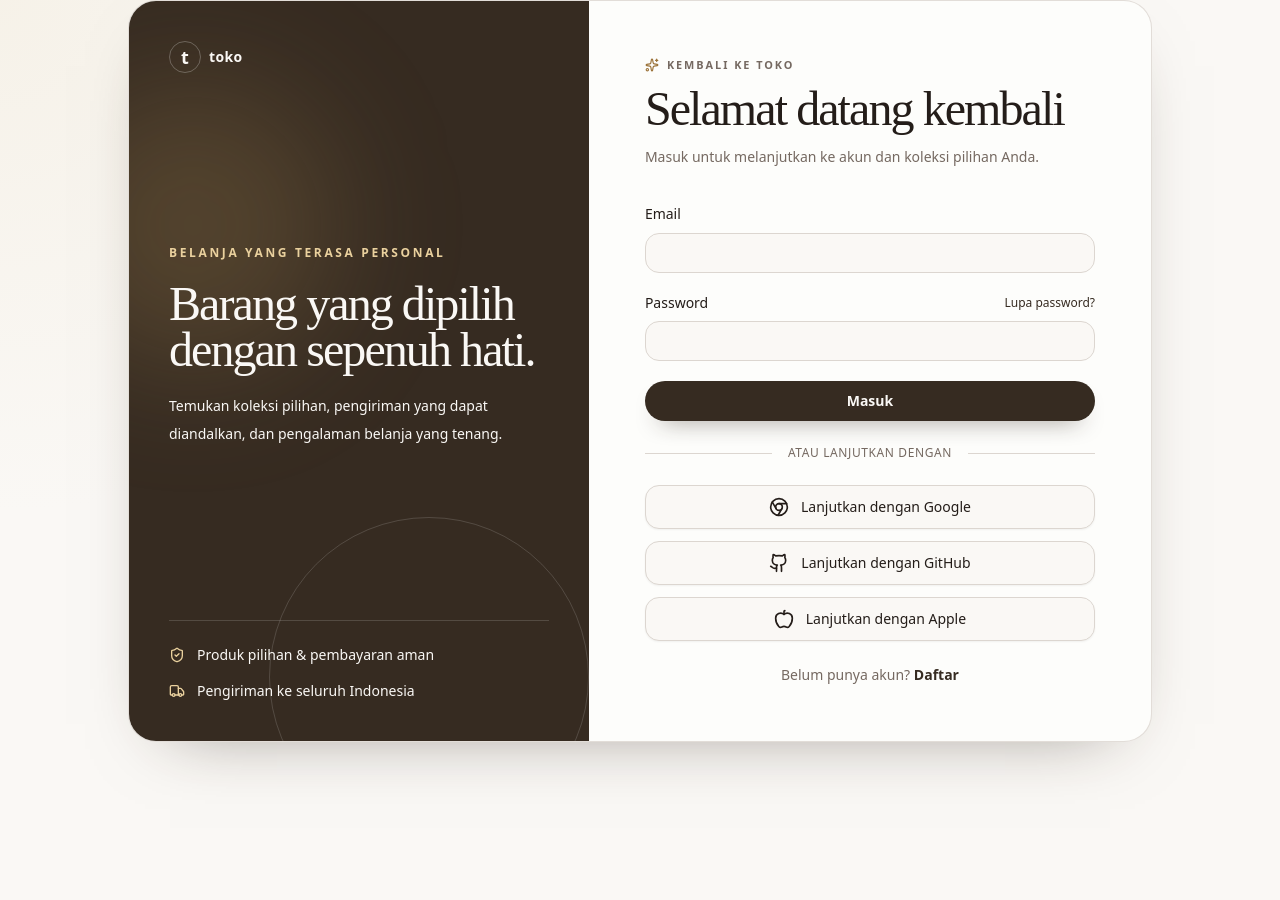
Test: LoginPage › shows loading state during submission
Expected: the heading "Selamat datang kembali" is shown, [645,85,1095,133]
Type "test@example.com" into the field labelled "Email" at (870, 253), box [645,233,1095,273]
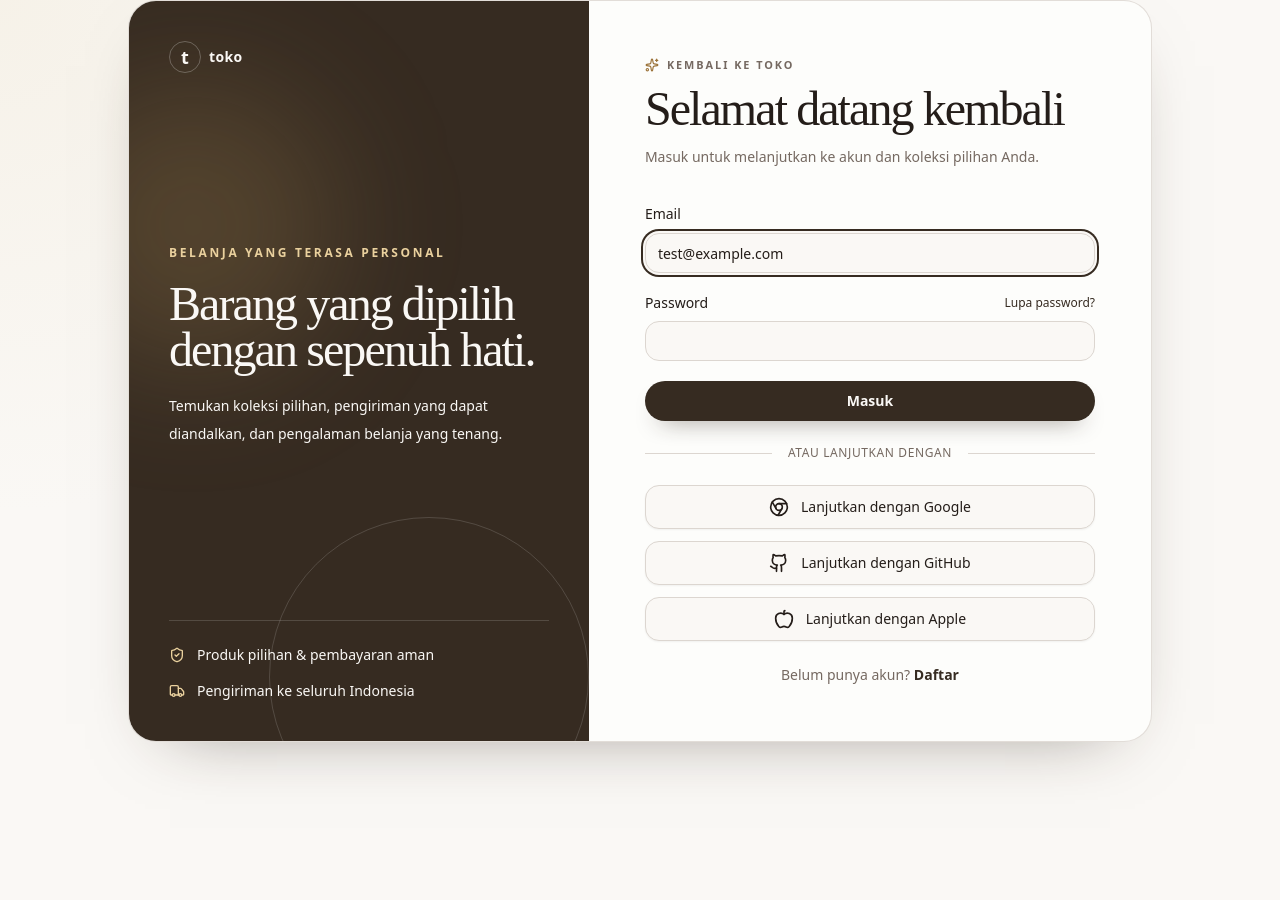
Type "password123" into the password field labelled "Password" at (870, 341), box [645,321,1095,361]
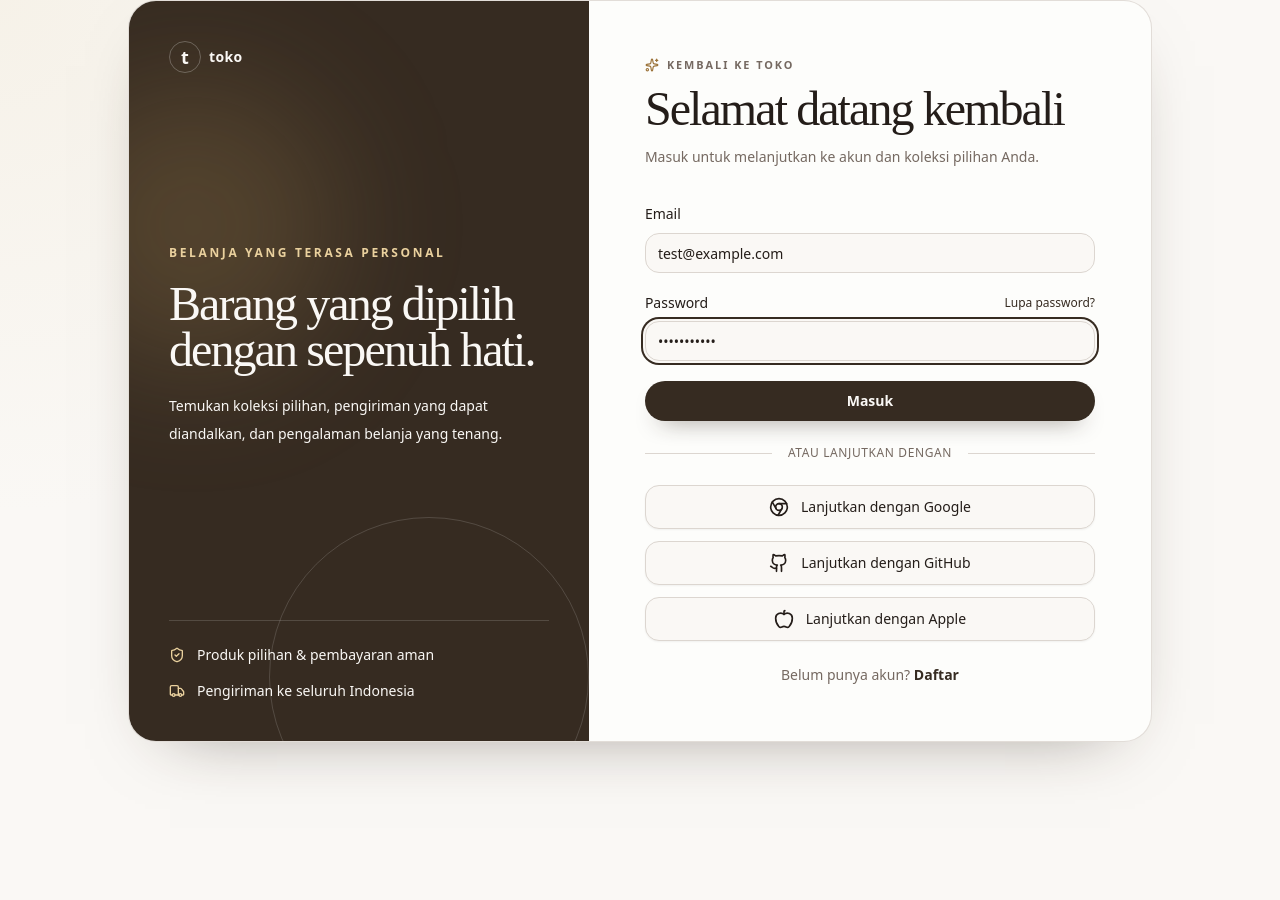
Click the button with test id "login-submit" at (870, 401), box [645,381,1095,421]
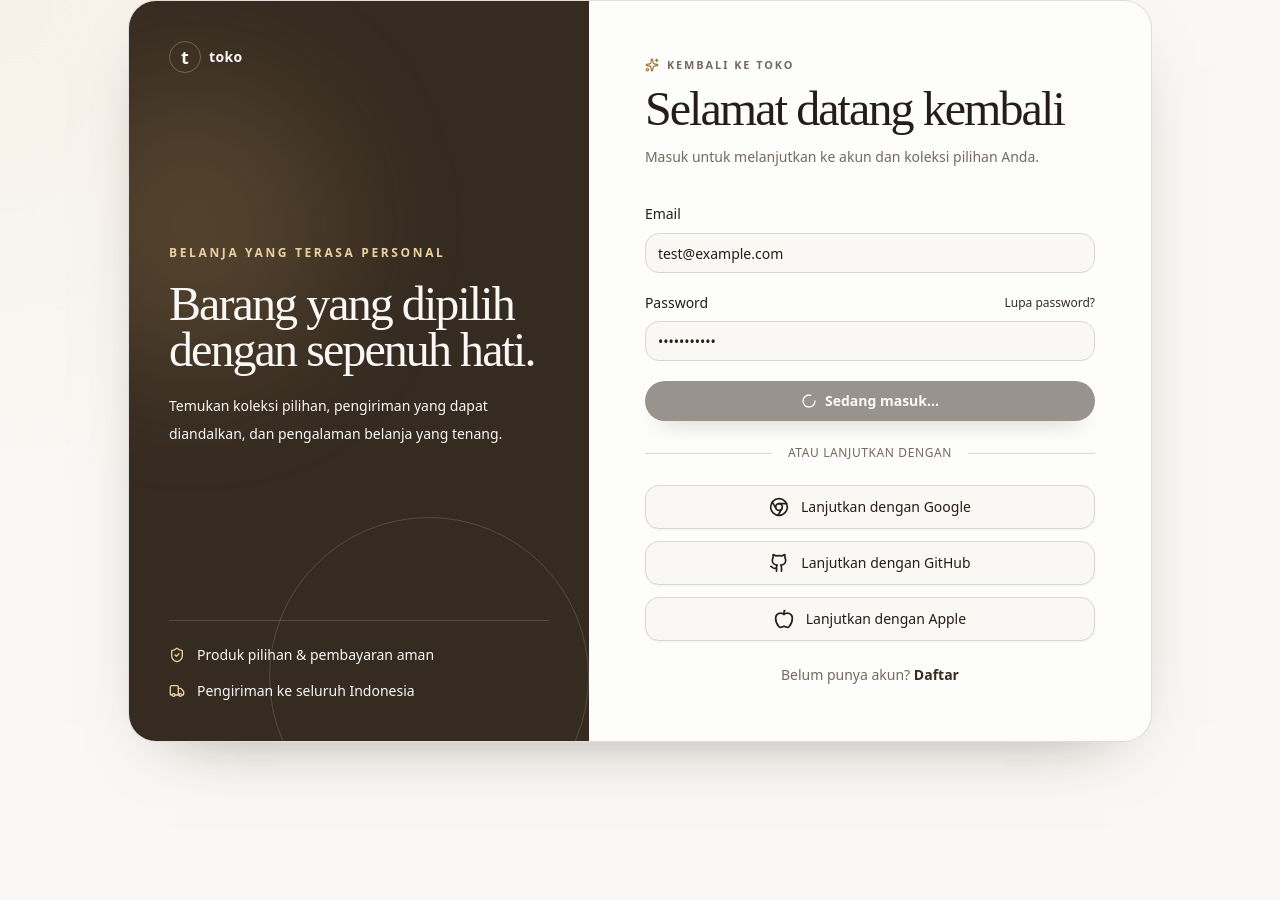
Expected: the text "Sedang masuk..." is shown, [825,391,939,411]
